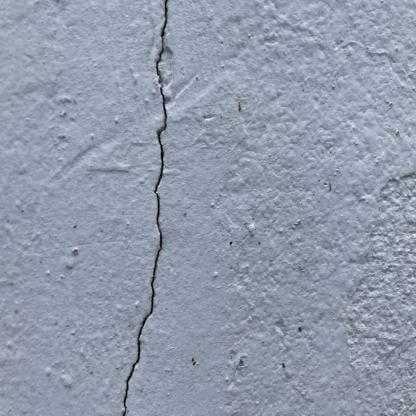crack: (122, 0, 167, 414)
